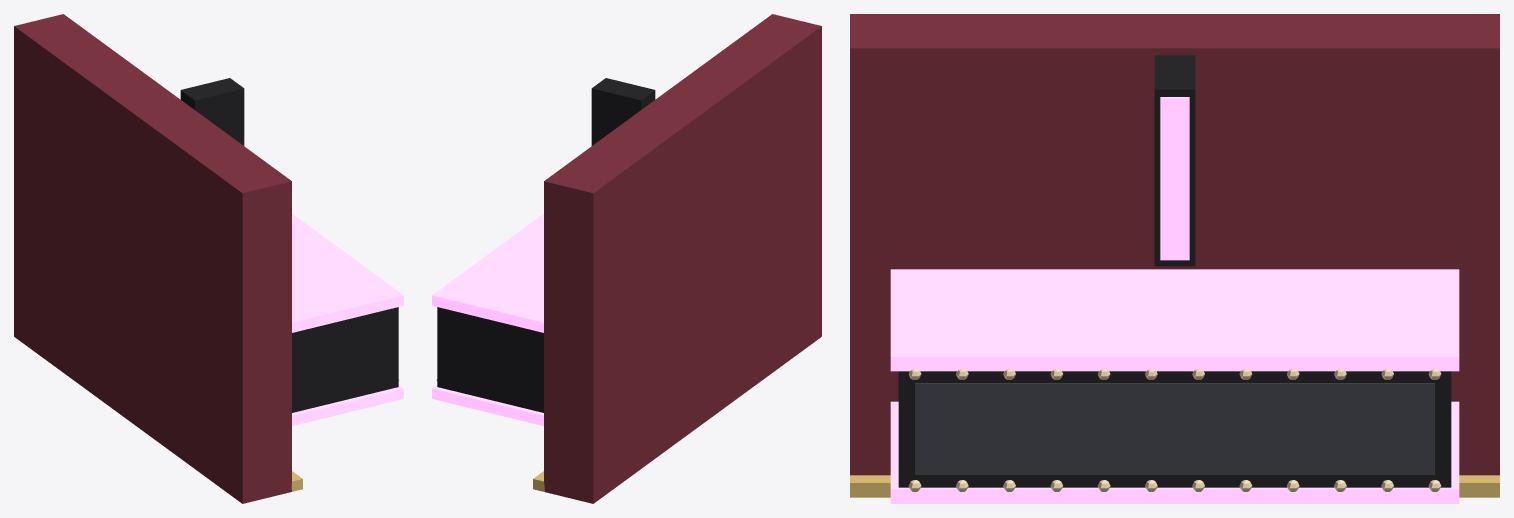
File: SM_CinemaMarquee.fbx
3 views of the same model, side by side, from view 1: azimuth 30°, elevation 25°; view 2: azimuth 150°, elevation 25°; view 3: azimuth 270°, elevation 25° (orthographic). The views are drawn at different scales.
Visible parts, largest first — view 1: SM_CinemaMarquee; view 2: SM_CinemaMarquee; view 3: SM_CinemaMarquee.
Boxes of the visible parts, x1,y1,x2,y2 form: SM_CinemaMarquee: (14,14,403,503); SM_CinemaMarquee: (432,14,821,503); SM_CinemaMarquee: (850,14,1499,503).
Bounding box in the file's own units: 180 × 300 × 400.
